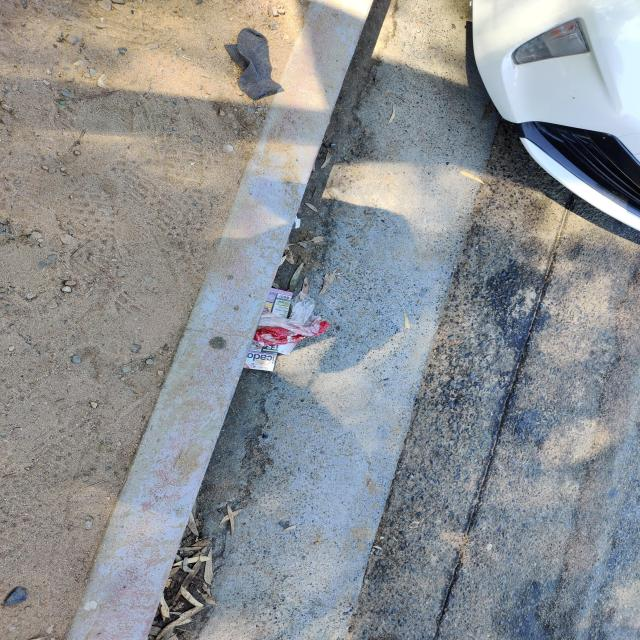litter: (247, 287, 329, 370), (221, 25, 289, 103)
